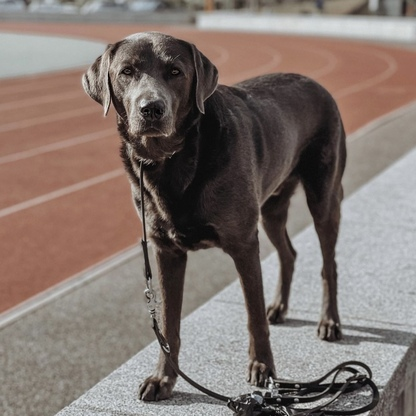labrado: (75, 29, 358, 407)
